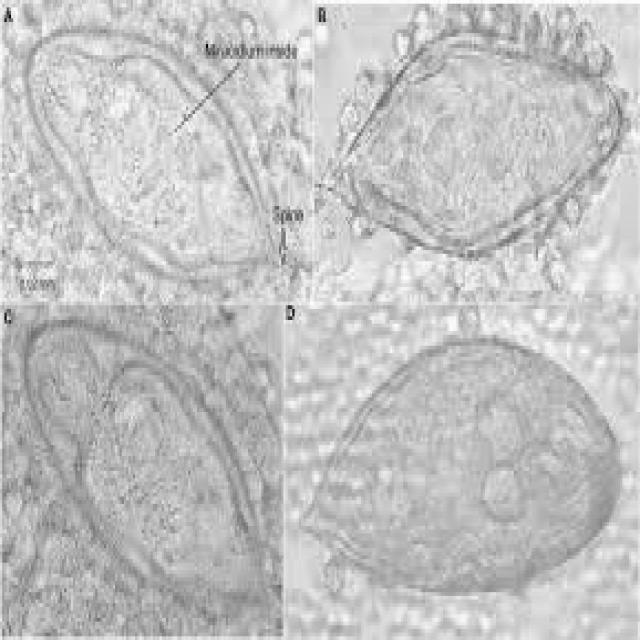Schistosoma: (296, 318, 628, 605), (318, 24, 630, 278), (21, 311, 262, 605), (21, 22, 291, 269)
